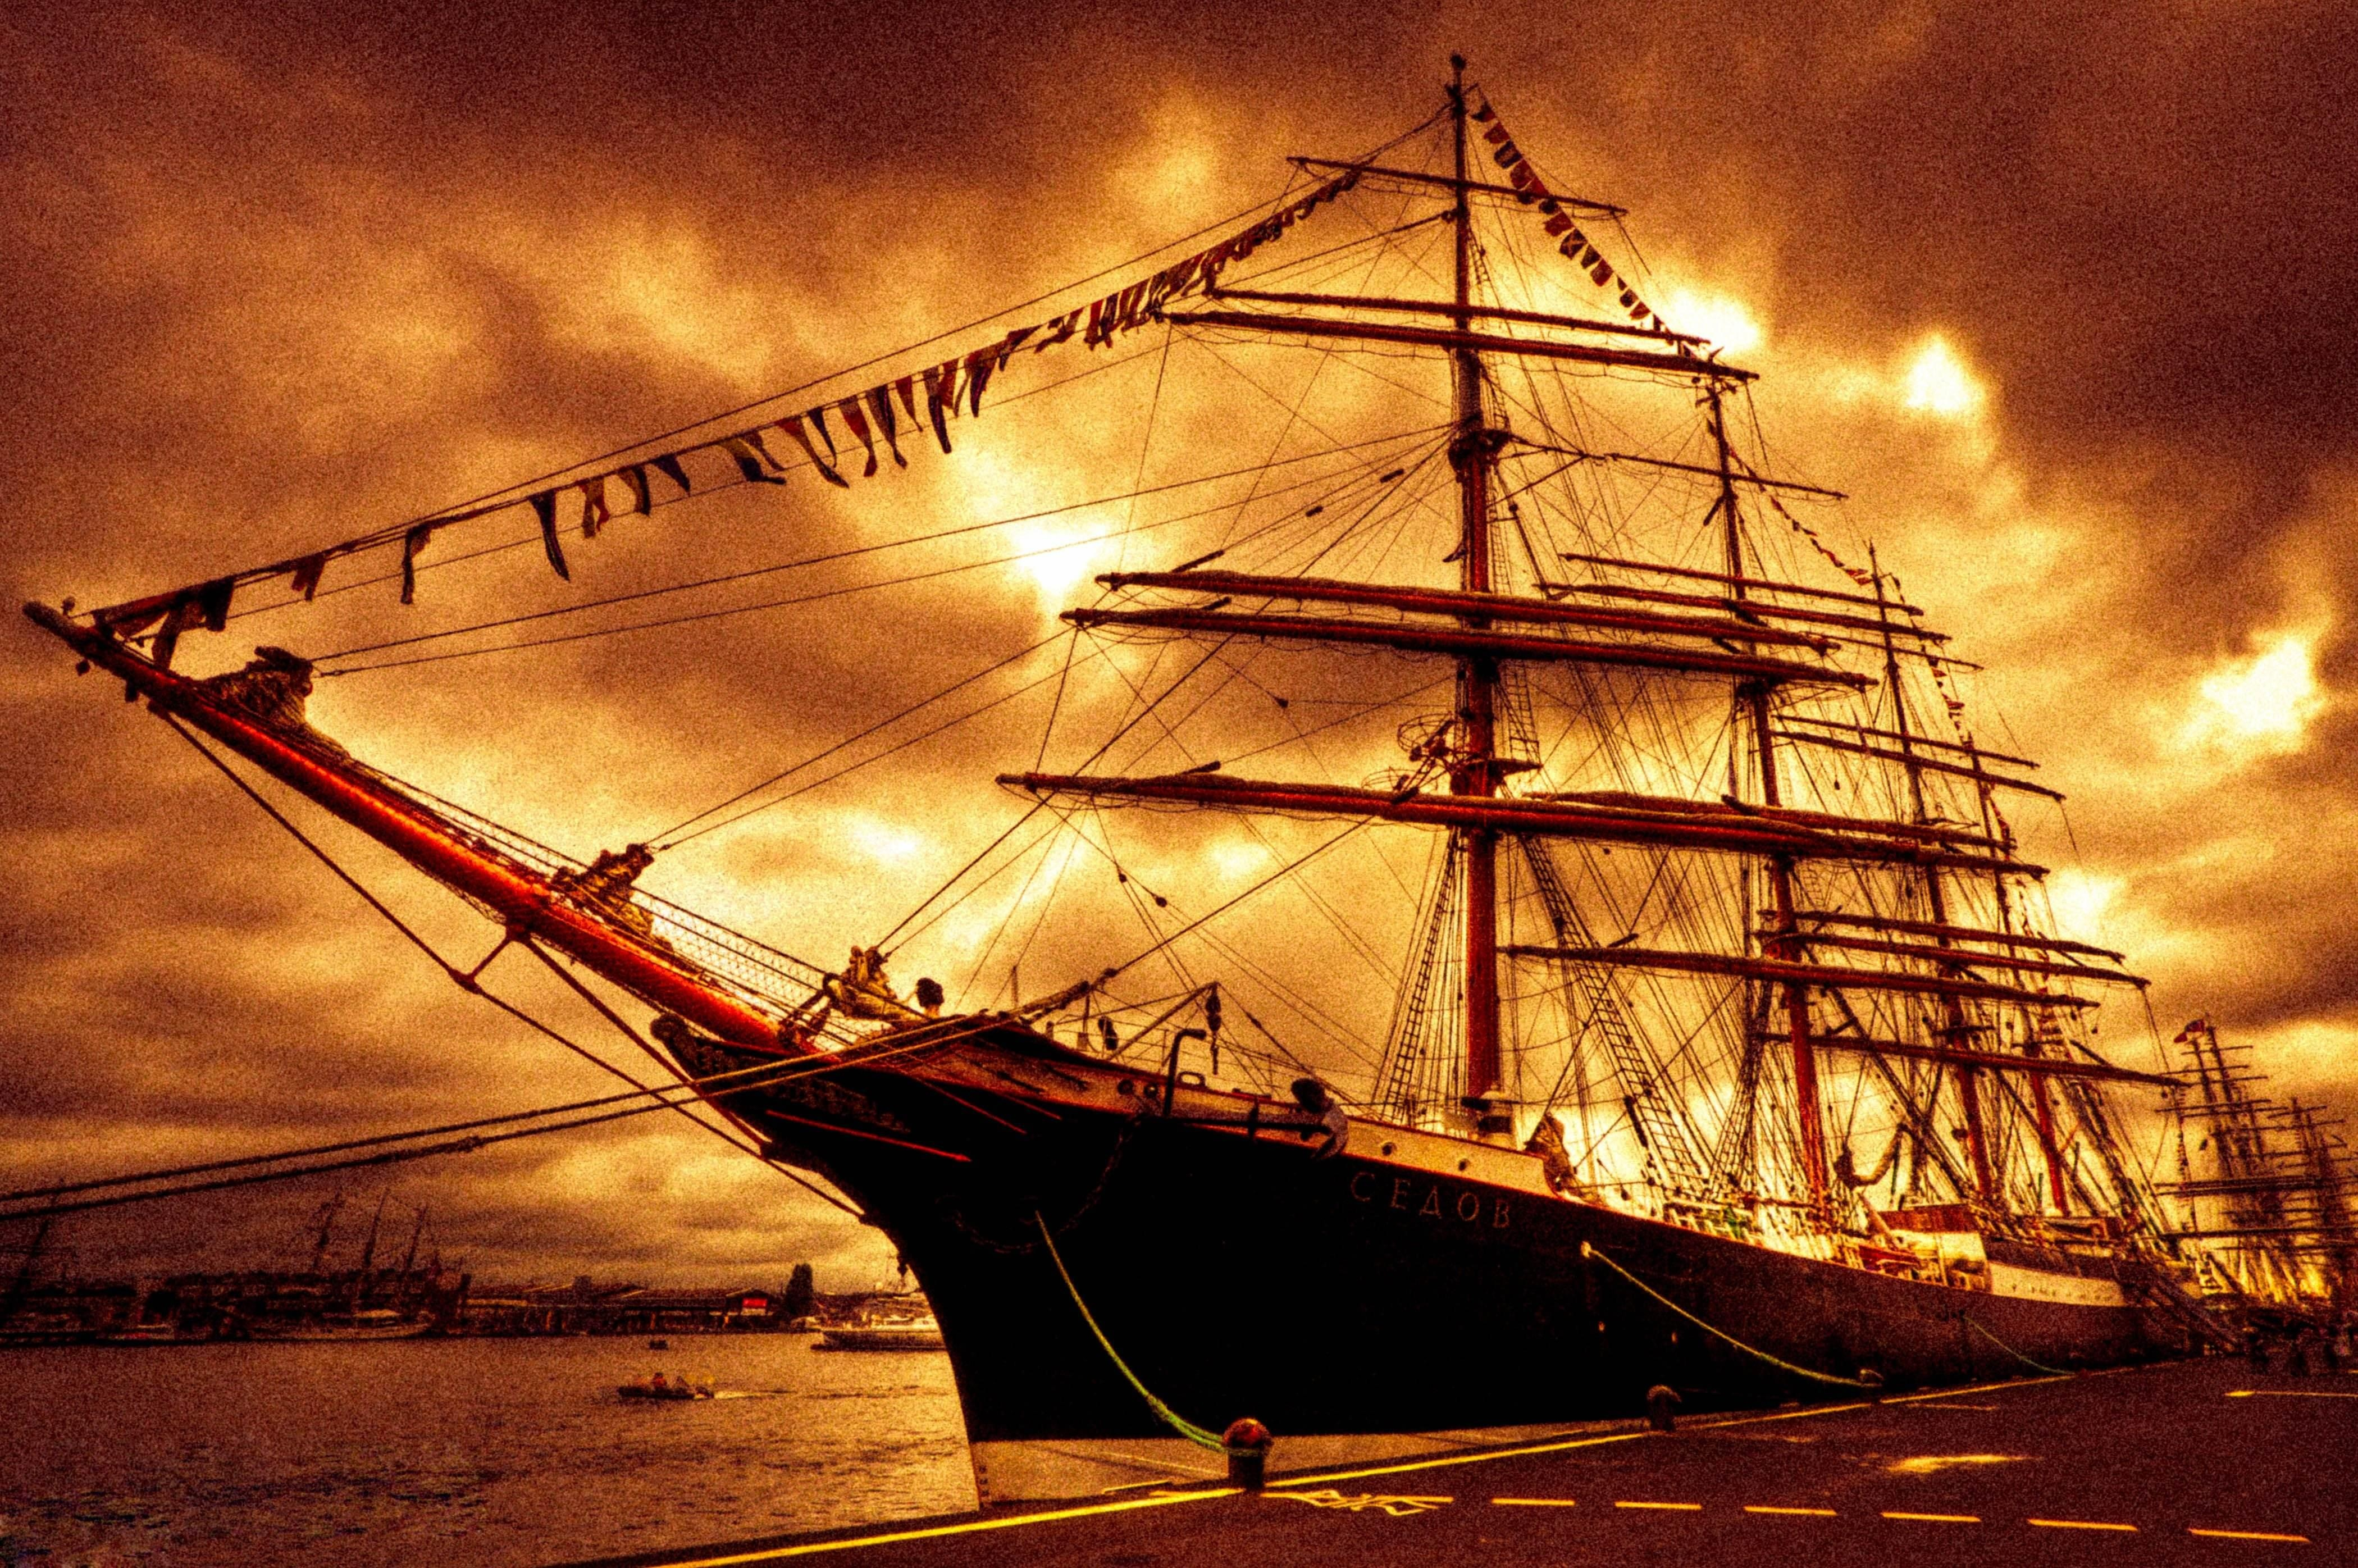fanchuan: (24, 51, 2321, 1361)
